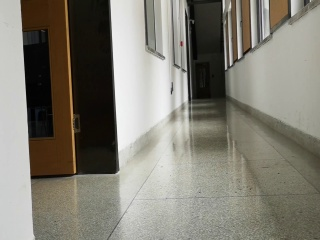room: (19, 2, 119, 178)
